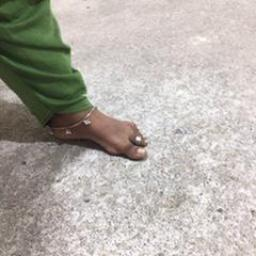Medial View -Left Foot-: (31, 82, 151, 177)
